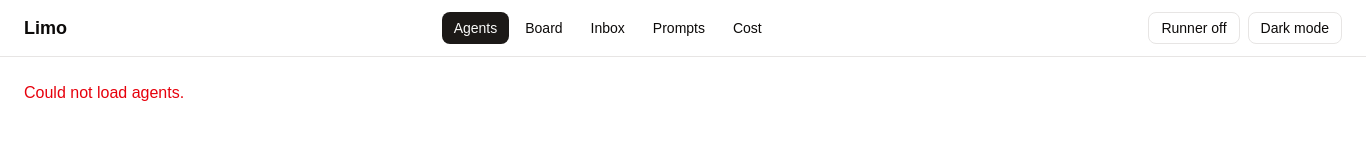
it: FT-16.9 a failed switch shows the engine's message and stays off
Click the button "Runner off" at (1194, 28), box [1148,12,1240,44]
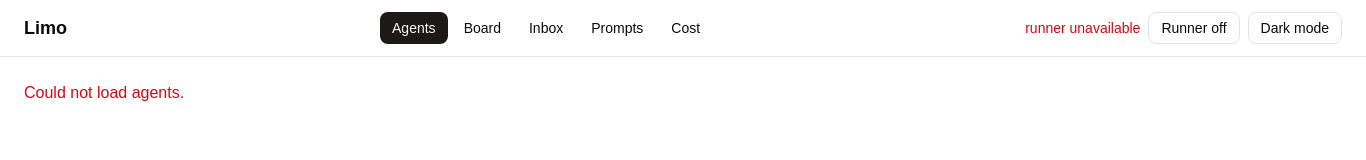
Expected: the text "runner unavailable" is shown, [1025,18,1140,38]
